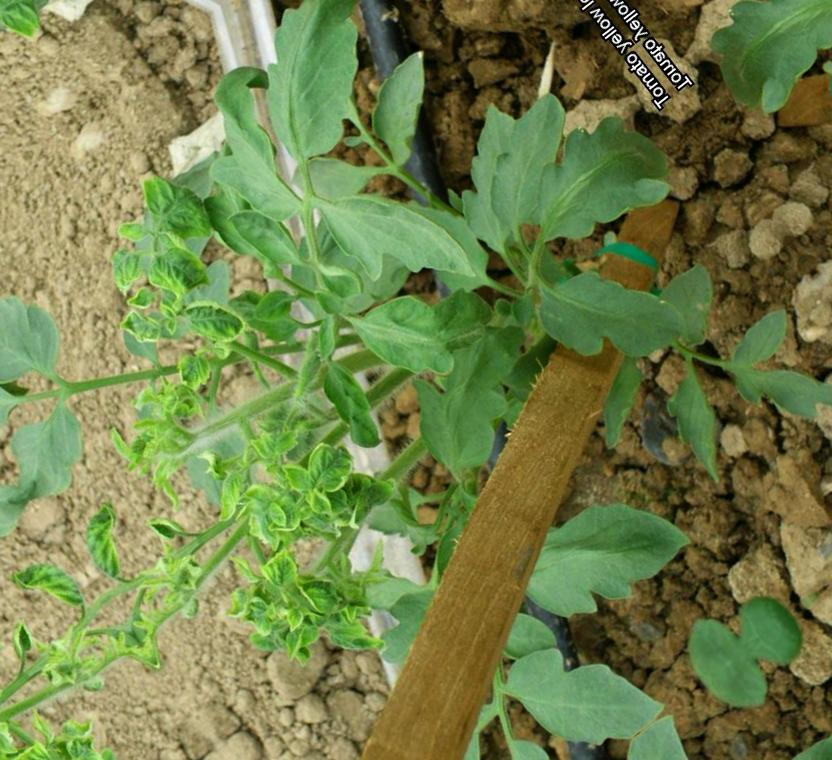Tomato leaf: (273, 129, 466, 332), (219, 0, 430, 173), (497, 93, 691, 279), (377, 313, 568, 499), (505, 474, 695, 654), (524, 230, 697, 404), (444, 78, 611, 244), (496, 615, 669, 760), (0, 372, 123, 513), (635, 356, 759, 490), (341, 47, 469, 174), (0, 271, 85, 411), (223, 191, 316, 291), (456, 708, 589, 760)
